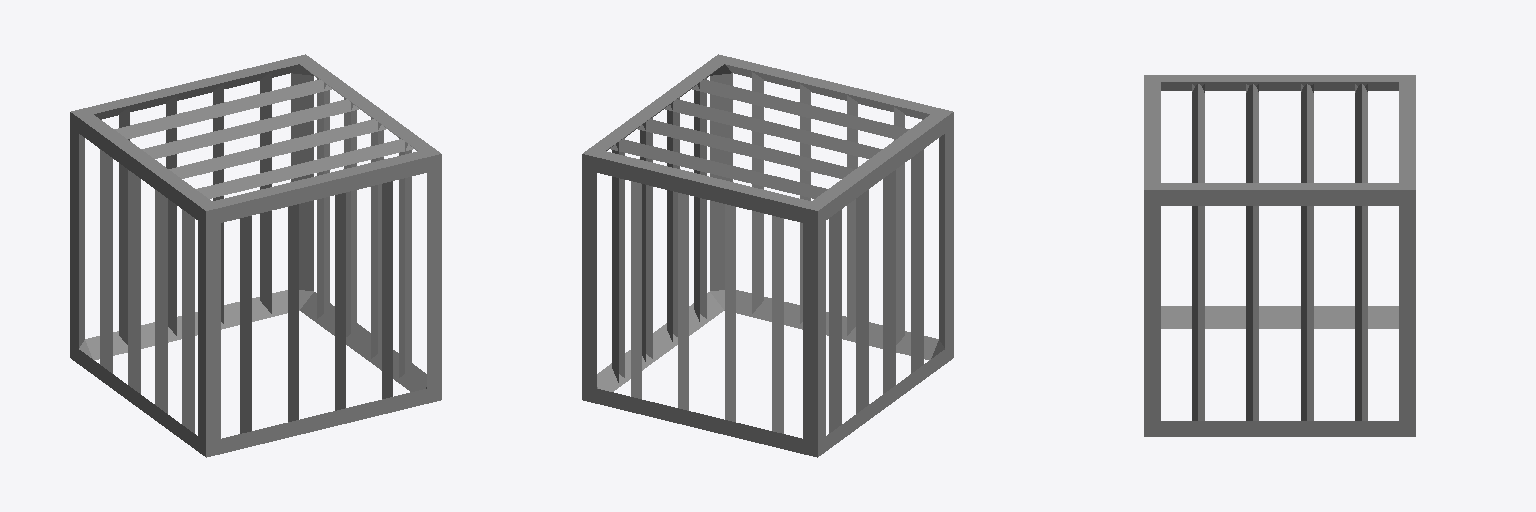
The model's file is Cage.obj.
3 views of the same model, side by side, from view 1: azimuth 30°, elevation 25°; view 2: azimuth 150°, elevation 25°; view 3: azimuth 270°, elevation 25° (orthographic).
Visible parts, largest first — view 1: Mesh_0182; view 2: Mesh_0182; view 3: Mesh_0182.
Part boxes in pixels (left/top/right/bottom): Mesh_0182: left=70, top=54, right=441, bottom=457; Mesh_0182: left=582, top=54, right=953, bottom=457; Mesh_0182: left=1144, top=75, right=1415, bottom=436.
Bounding box in the file's own units: 2 × 2 × 2.